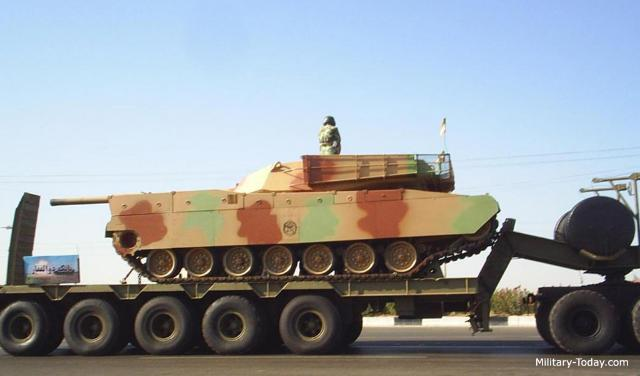other: (321, 114, 341, 152)
tank: (106, 152, 494, 268)
